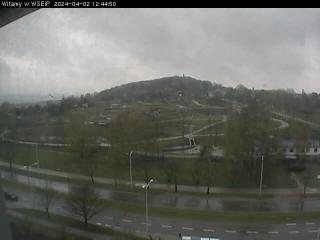car: (3, 191, 20, 202)
